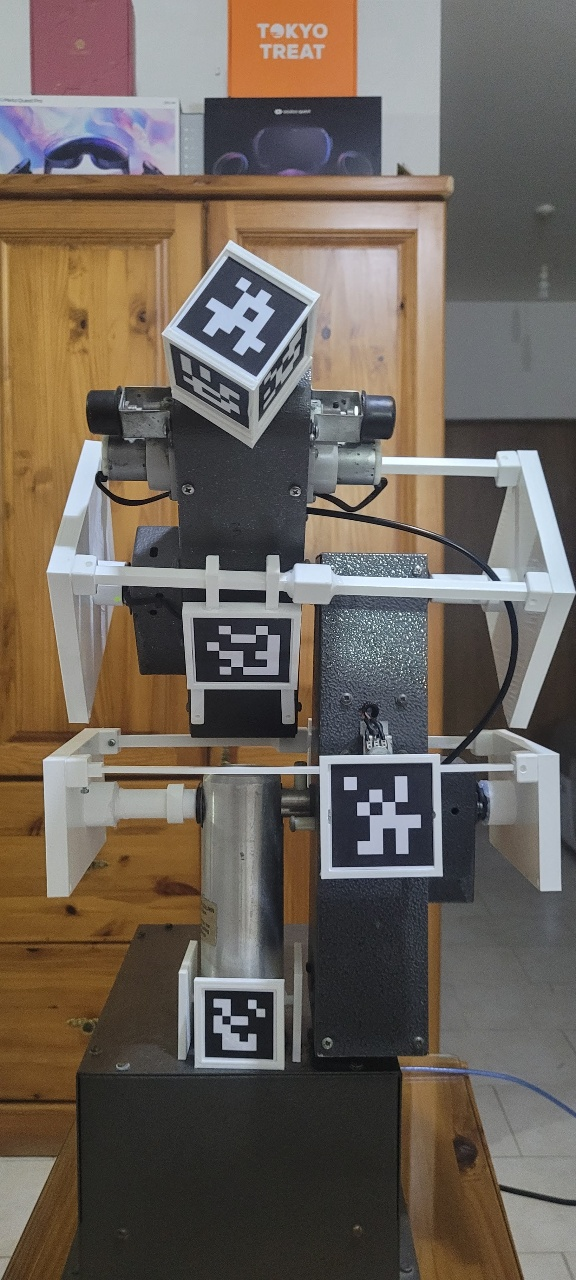Robot: (1, 207, 519, 1019)
